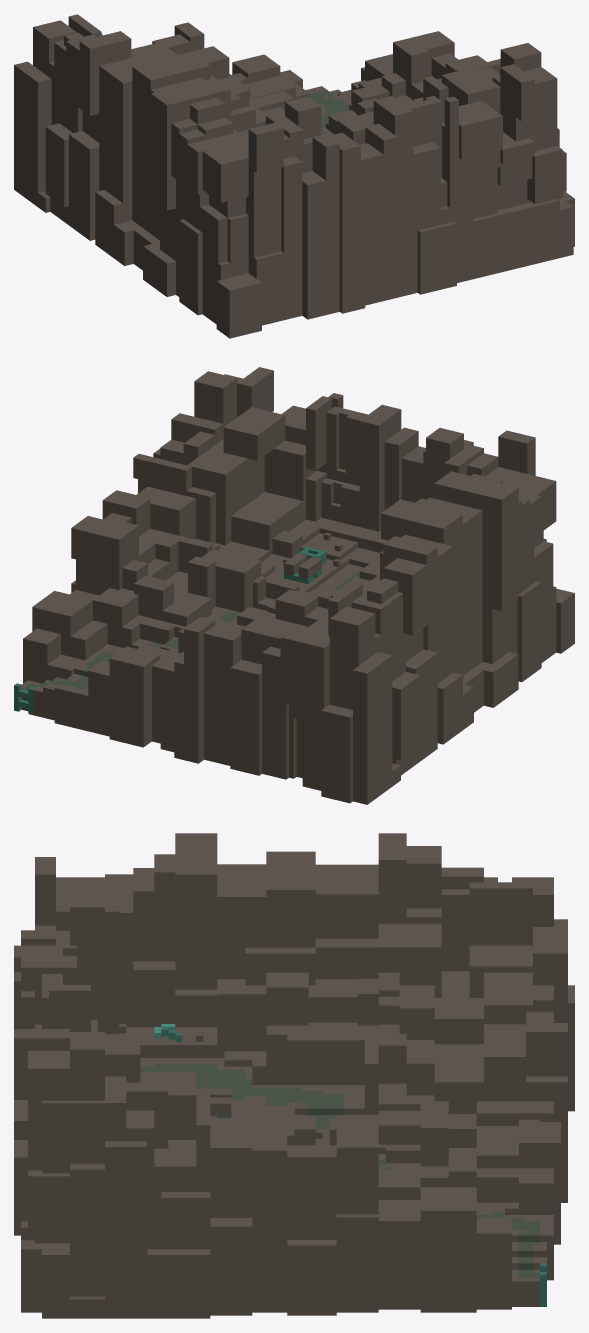
Rendered from StoneQuarry.glb.
3 views of the same model, one above another, from view 1: azimuth 30°, elevation 25°; view 2: azimuth 150°, elevation 25°; view 3: azimuth 270°, elevation 25° (orthographic). The views are drawn at different scales.
Parts seen in each view (by area): view 1: Node; view 2: Node; view 3: Node.
Part boxes in pixels (x1,y1,x2,y2): Node: [14, 14, 574, 338]; Node: [14, 367, 574, 804]; Node: [14, 833, 574, 1318].
Size of the model in its own units: 7.9 by 4 by 8.
1 material, 1 textured.
